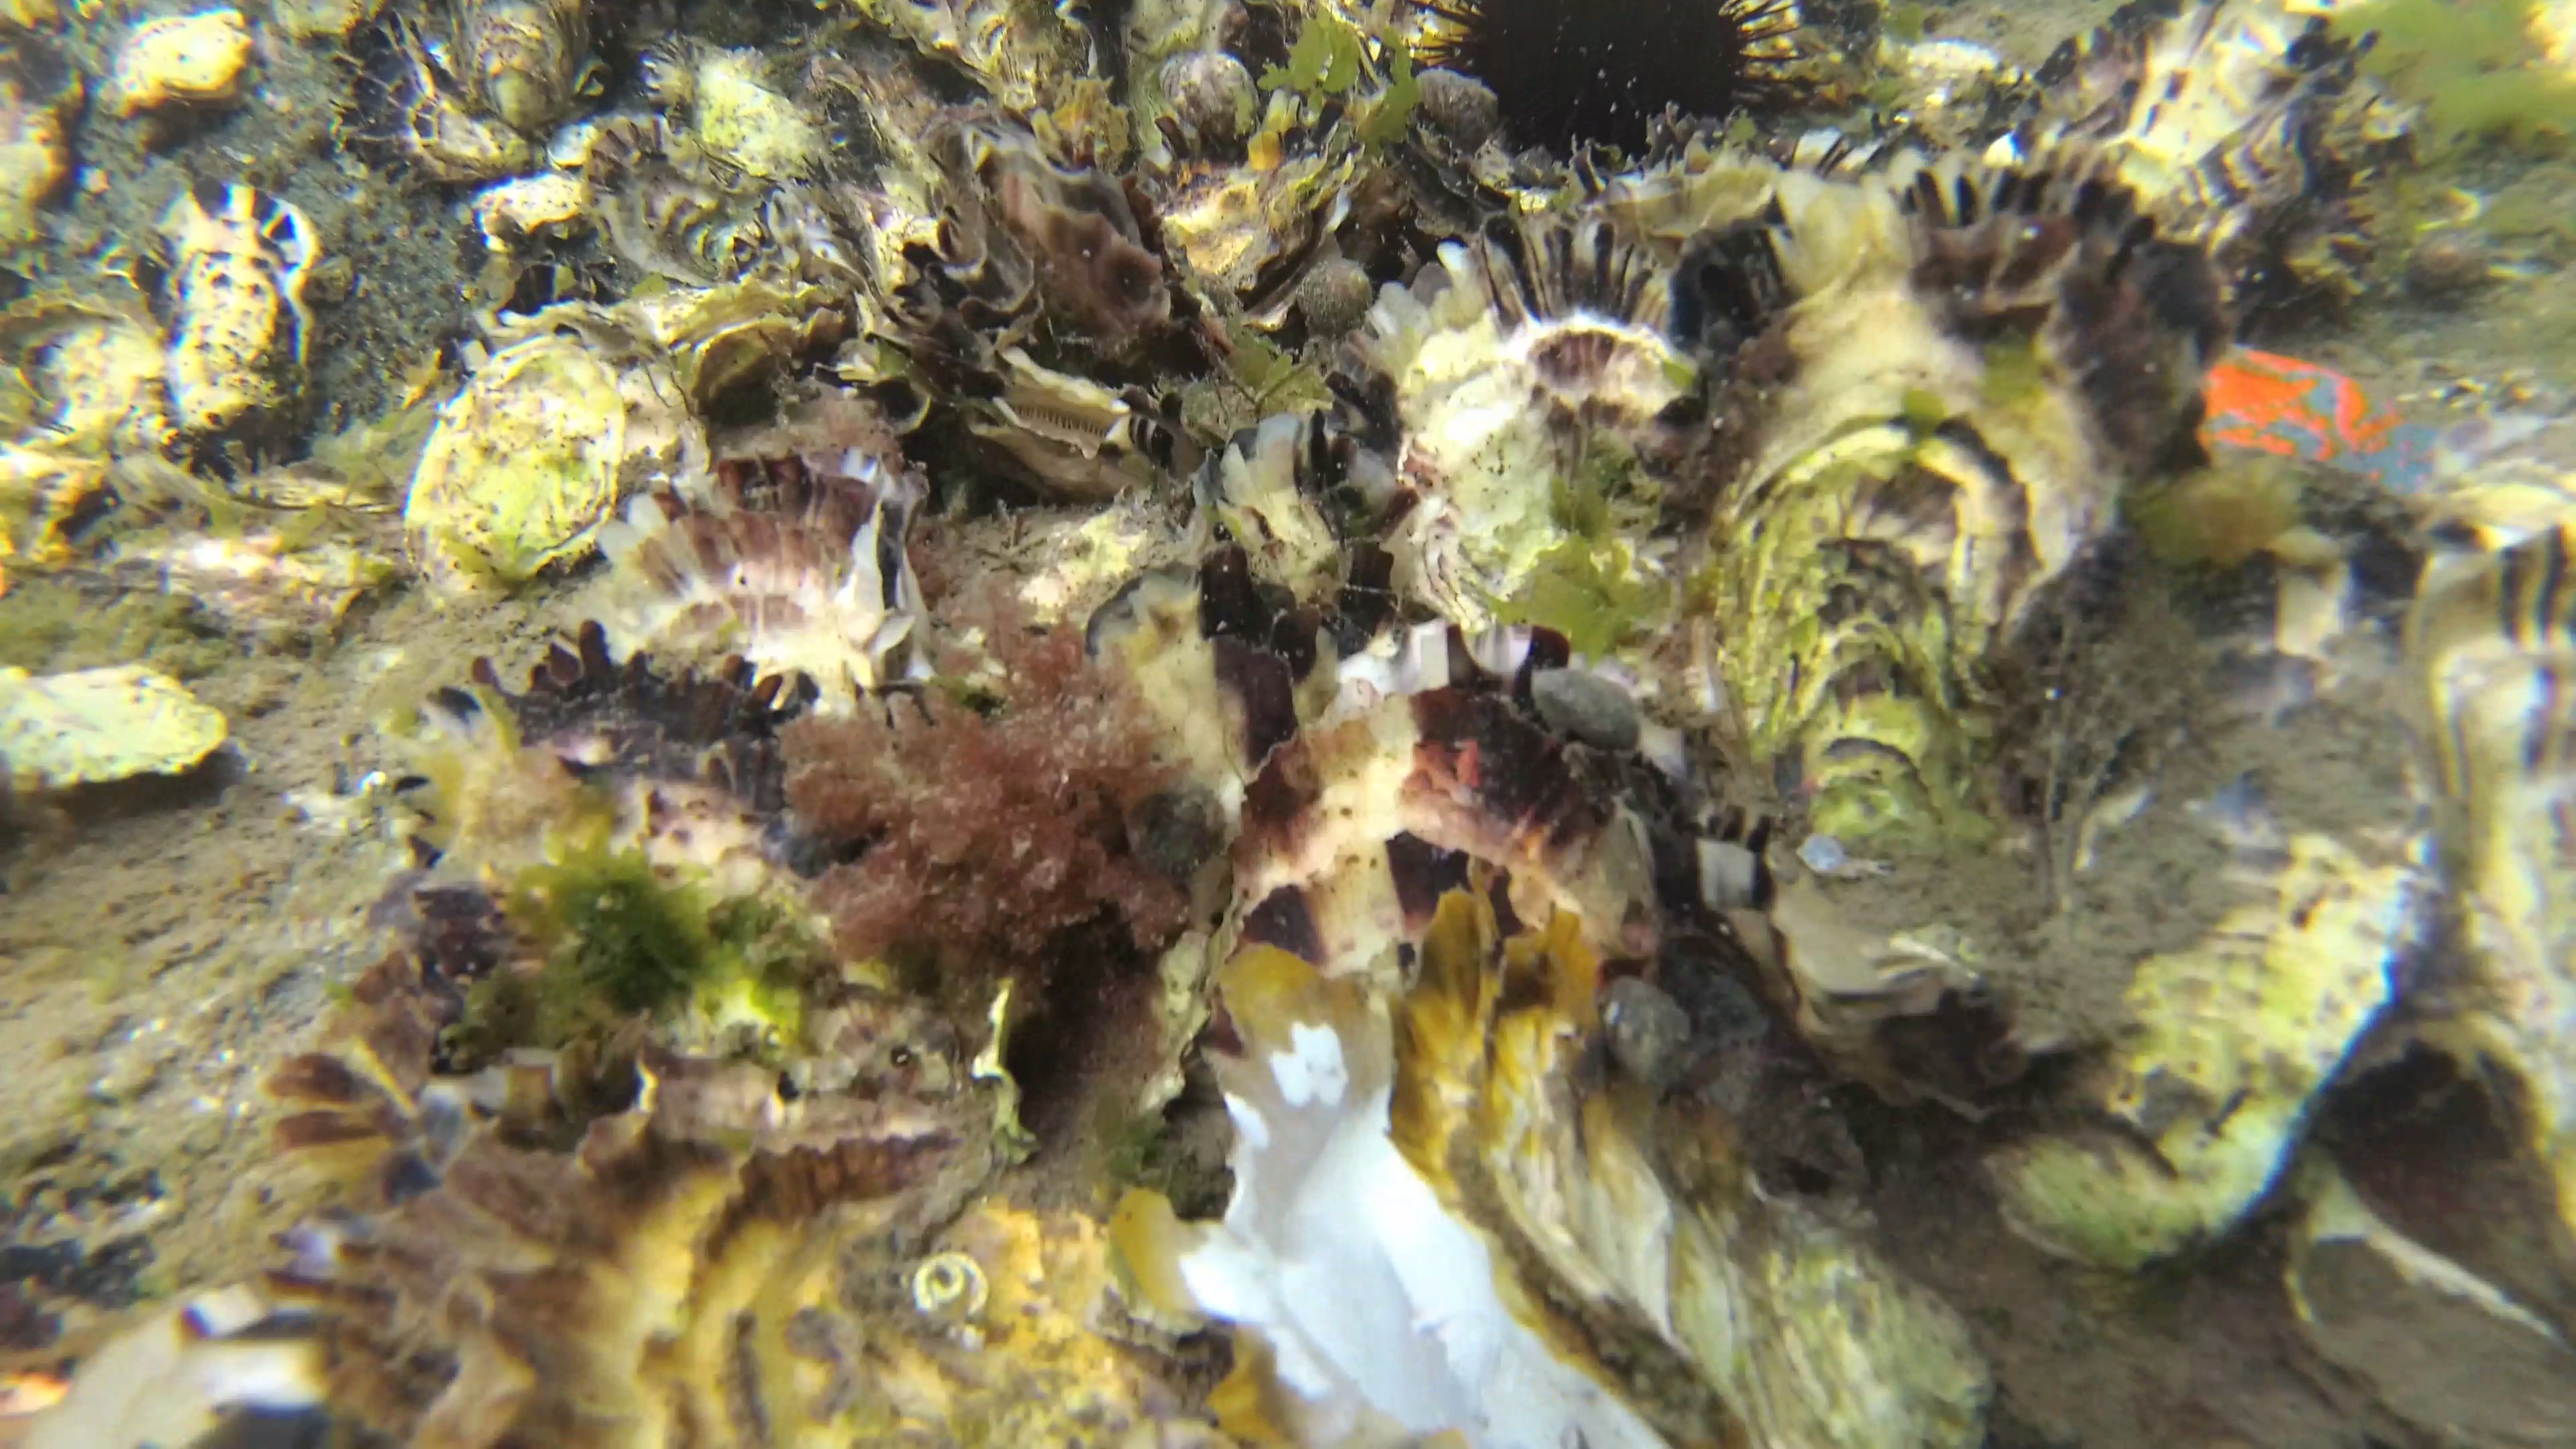echinus: (1407, 4, 1810, 172)
starfish: (2194, 327, 2445, 506)
